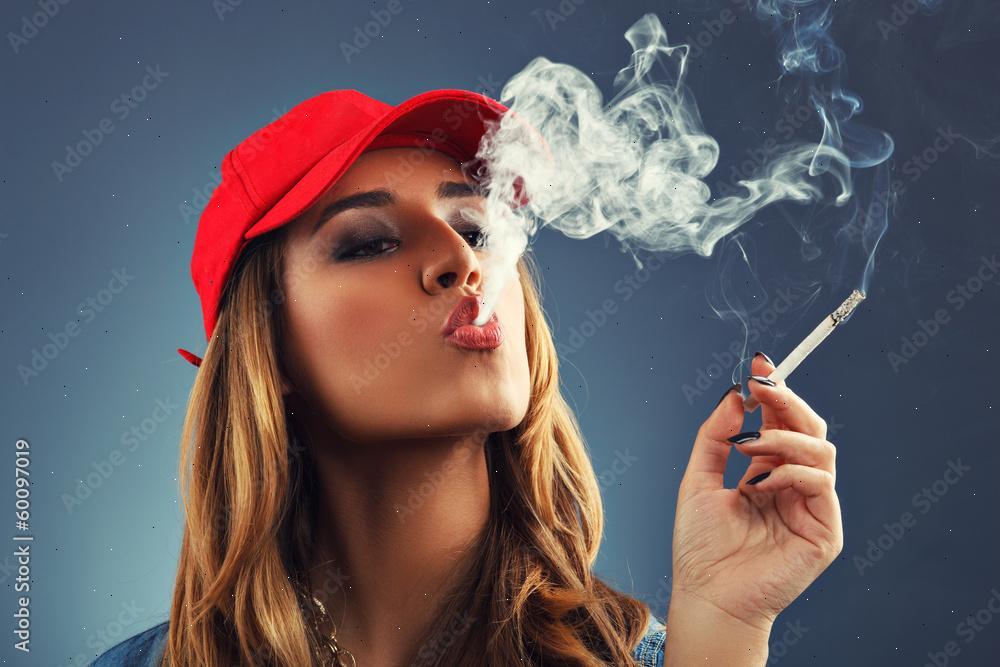cigarette: (767, 290, 864, 381)
